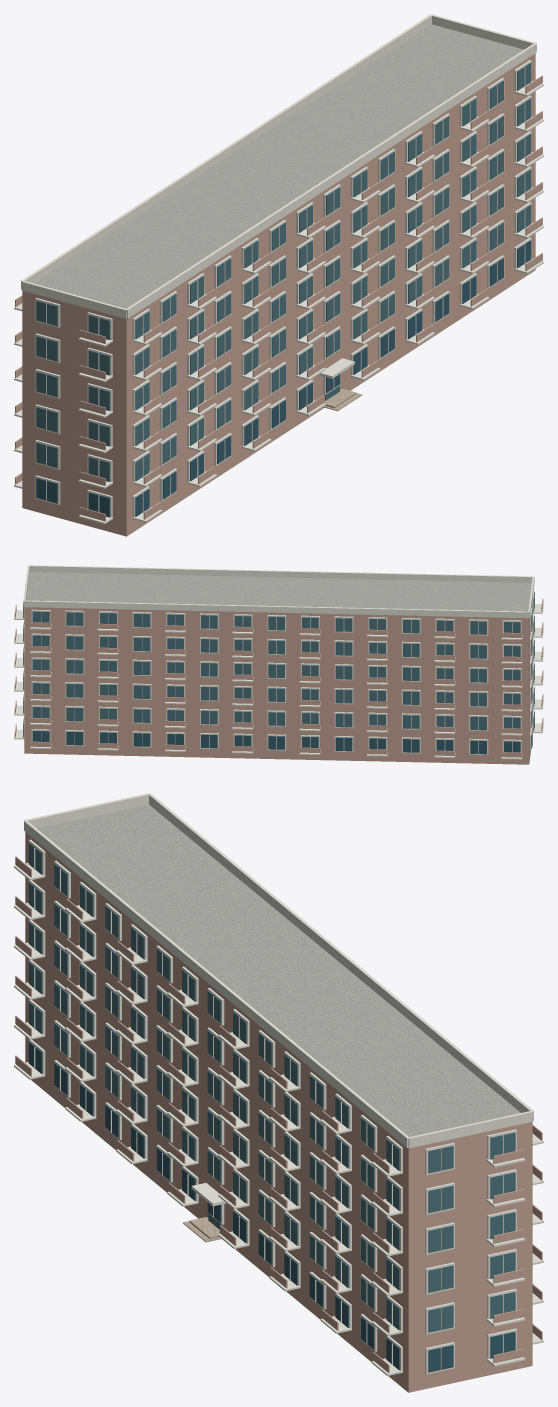
File: chunk-p2-n1.glb
The picture shows the model from 3 angles, top to bottom: view 1: azimuth 30°, elevation 25°; view 2: azimuth 150°, elevation 25°; view 3: azimuth 270°, elevation 25°; orthographic projection. The views are drawn at different scales.
Visible parts, largest first — view 1: chunk-p2-n1; view 2: chunk-p2-n1; view 3: chunk-p2-n1.
Boxes of the visible parts, x1,y1,x2,y2 form: chunk-p2-n1: [14, 14, 543, 536]; chunk-p2-n1: [14, 565, 543, 764]; chunk-p2-n1: [14, 793, 543, 1392].
Size of the model in its own units: 61.38 by 21.1 by 39.79.
6 materials, 2 textured.
